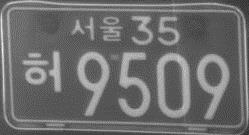0: (154, 50, 193, 119)
3: (130, 14, 153, 46)
5: (117, 50, 152, 117), (157, 14, 181, 47)
9: (195, 51, 232, 120), (75, 50, 110, 117)
서울_O: (70, 15, 124, 42)
허: (20, 49, 63, 93)
